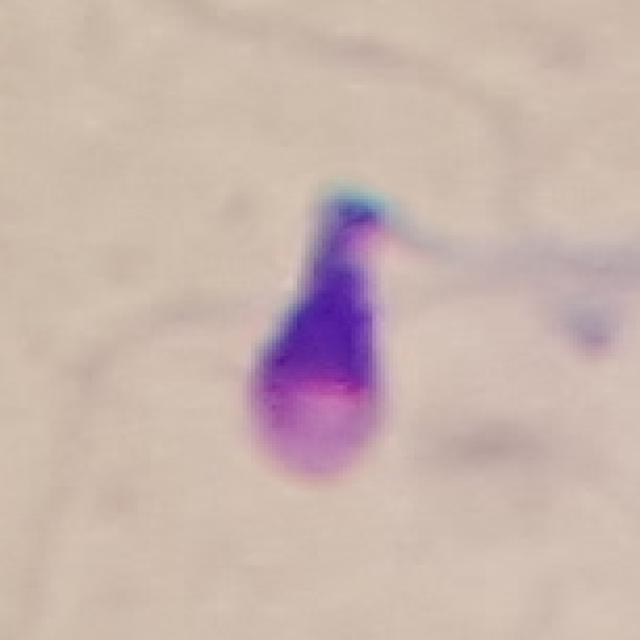abnormal sperm: (253, 188, 467, 480)
